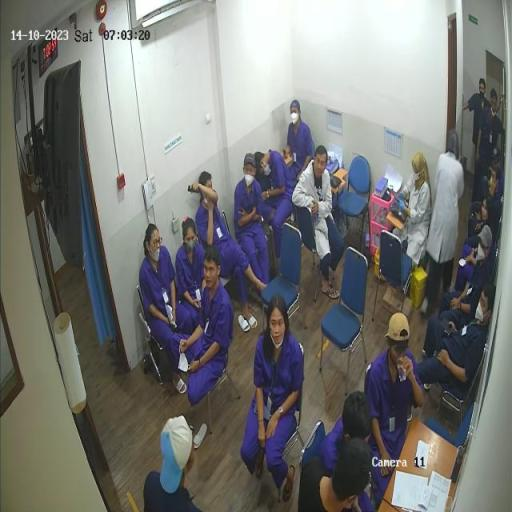person: (241, 295, 303, 503), (189, 171, 268, 330), (369, 313, 425, 498), (173, 245, 236, 408), (139, 224, 193, 395), (418, 284, 496, 390), (422, 129, 466, 313), (293, 147, 346, 298), (320, 390, 376, 512), (439, 224, 493, 336), (143, 415, 204, 512), (299, 438, 372, 512), (235, 154, 270, 295), (256, 151, 295, 273), (399, 151, 432, 293), (455, 195, 496, 292), (464, 79, 504, 178), (176, 219, 207, 332), (476, 88, 507, 197), (285, 101, 315, 196), (469, 164, 503, 239), (485, 148, 503, 184)
